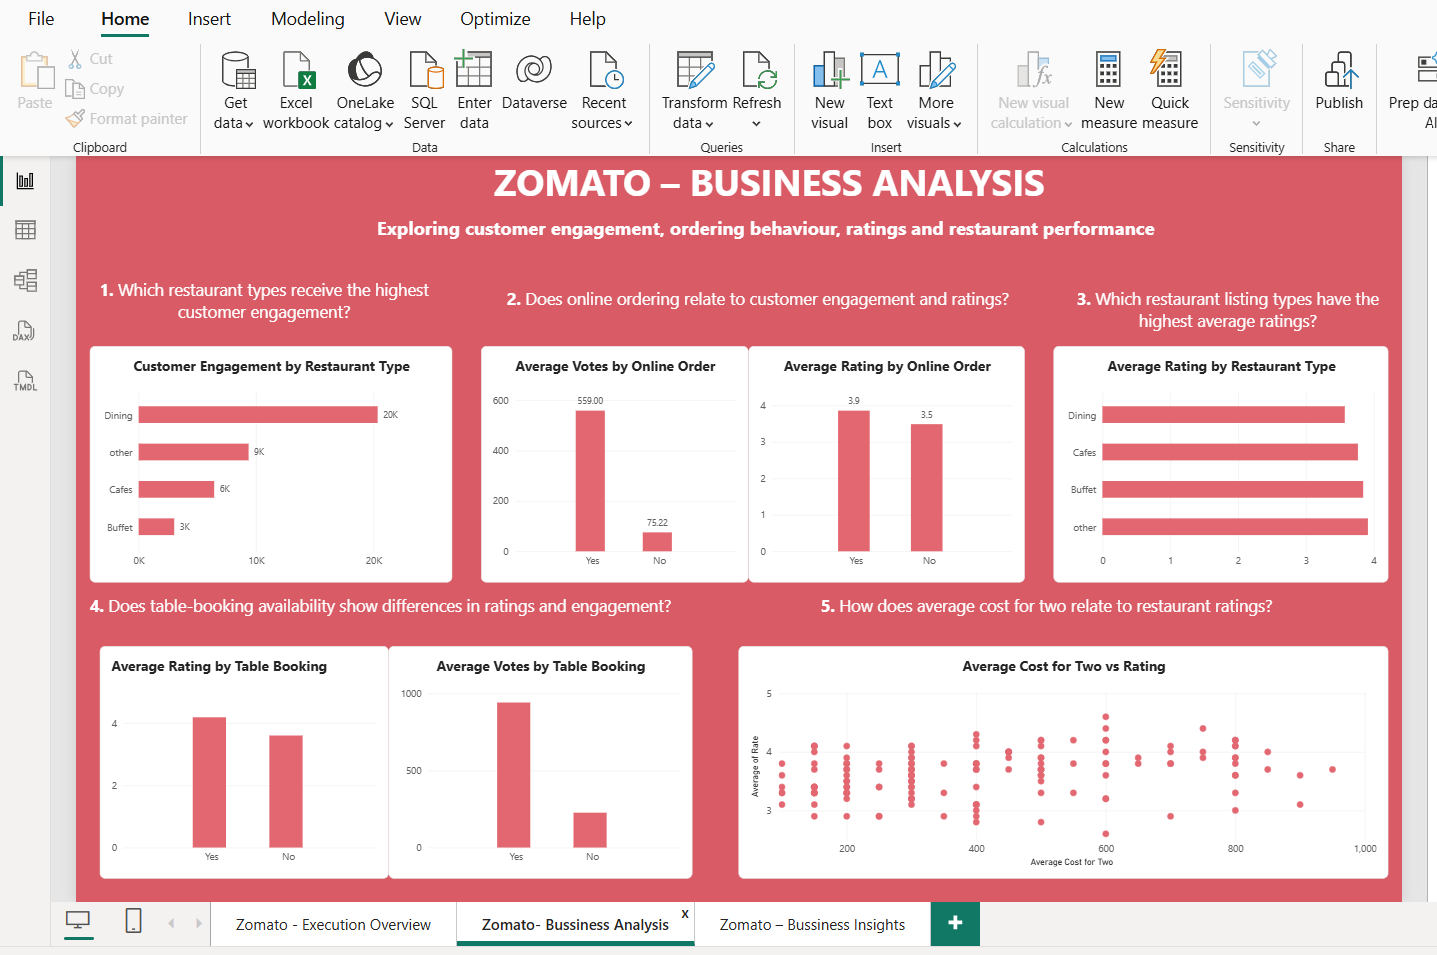

Layout of this report page (visuals, bound fields, positions):
{"tool":"powerbi","page":{"name":"Zomato- Bussiness Analysis","canvas":[1920,1080],"ordinal":1},"visuals":[{"type":"textbox","box":[371.4,0,1265.3,85.7],"z":0},{"type":"textbox","box":[289.8,85.7,1418.4,49],"z":1000},{"type":"textbox","box":[0,177.3,544.7,88.7],"z":2000},{"type":"clusteredBarChart","title":"Customer Engagement by Restaurant Type","fields":{"Y":["Sum(Sheet1.Votes)"],"Category":["Sheet1.Listed In Type"]},"box":[19.9,275.1,524.8,342],"z":3000},{"type":"textbox","box":[586.3,190,801.7,76],"z":4000},{"type":"clusteredColumnChart","title":"Average Votes by Online Order","fields":{"Category":["Sheet1.Online Order"],"Y":["Avg(Sheet1.Votes)"]},"box":[586.3,275.1,387.3,342],"z":5000},{"type":"clusteredColumnChart","title":"Average Rating by Online Order","fields":{"Category":["Sheet1.Online Order"],"Y":["Avg(Sheet1.Rate)"]},"box":[973.6,275.1,399.9,342],"z":6000},{"type":"textbox","box":[1415.2,190,504.9,85.1],"z":7000},{"type":"clusteredBarChart","title":"Average Rating by Restaurant Type","fields":{"Y":["Avg(Sheet1.Rate)"],"Category":["Sheet1.Listed In Type"]},"box":[1415.2,275.1,485,342],"z":8000},{"type":"textbox","box":[19.9,635.2,894,74.2],"z":9000},{"type":"clusteredColumnChart","title":"Average Rating by Table Booking","fields":{"Category":["Sheet1.Book Table"],"Y":["Avg(Sheet1.Rate)"]},"box":[34.4,709.4,418,336.6],"z":10000},{"type":"clusteredColumnChart","title":"Average Votes by Table Booking","fields":{"Category":["Sheet1.Book Table"],"Y":["Avg(Sheet1.Votes)"]},"box":[452.4,709.4,439.7,336.6],"z":11000},{"type":"textbox","box":[959.1,635.2,892.2,57.9],"z":12000},{"type":"scatterChart","title":"Average Cost for Two vs Rating","fields":{"Y":["Avg(Sheet1.Rate)"],"X":["Sheet1.Average Cost for Two"],"Category":["Sheet1.Resturant Name"]},"box":[959.1,709.4,941,336.6],"z":13000}]}

Visuals, with their boxes on the page's 1920x1080 design canvas (x1, y1, x2, y2). These are canvas units, not pixel positions in the 1437x955 screenshot, which may show the page scaled, cropped or inside an application window:
textbox: box(371, 0, 1637, 86)
textbox: box(290, 86, 1708, 135)
textbox: box(0, 177, 545, 266)
"Customer Engagement by Restaurant Type" clusteredBarChart: box(20, 275, 545, 617)
textbox: box(586, 190, 1388, 266)
"Average Votes by Online Order" clusteredColumnChart: box(586, 275, 974, 617)
"Average Rating by Online Order" clusteredColumnChart: box(974, 275, 1374, 617)
textbox: box(1415, 190, 1920, 275)
"Average Rating by Restaurant Type" clusteredBarChart: box(1415, 275, 1900, 617)
textbox: box(20, 635, 914, 709)
"Average Rating by Table Booking" clusteredColumnChart: box(34, 709, 452, 1046)
"Average Votes by Table Booking" clusteredColumnChart: box(452, 709, 892, 1046)
textbox: box(959, 635, 1851, 693)
"Average Cost for Two vs Rating" scatterChart: box(959, 709, 1900, 1046)
